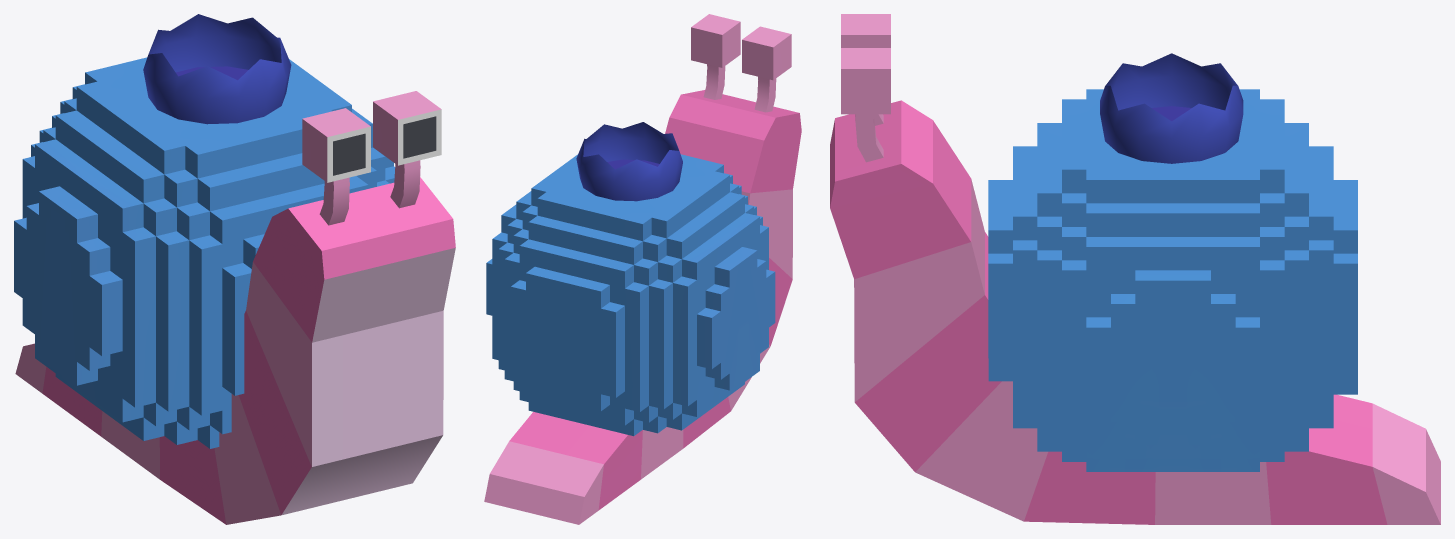
File: Slimolina_Blueberrinna.fbx
3 renders of one model, left to right at view 1: azimuth 30°, elevation 25°; view 2: azimuth 150°, elevation 25°; view 3: azimuth 270°, elevation 25°, orthographic. The views are drawn at different scales.
Visible parts, largest first — view 1: Slimolina_Blueberrinna; view 2: Slimolina_Blueberrinna; view 3: Slimolina_Blueberrinna.
Boxes of the visible parts, x1,y1,x2,y2 form: Slimolina_Blueberrinna: (14,14,455,524); Slimolina_Blueberrinna: (484,14,801,524); Slimolina_Blueberrinna: (830,14,1440,524).
Bounding box in the file's own units: 0.4889 × 0.682 × 0.836.
